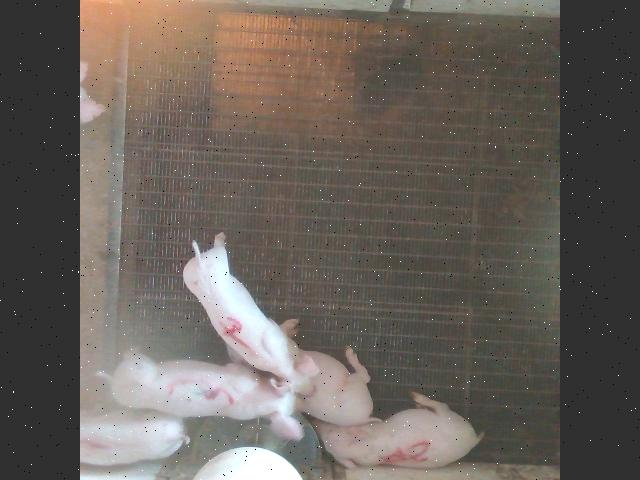pig-1: (81, 410, 190, 464)
pig-3: (99, 350, 302, 439)
pig-4: (184, 241, 319, 396)
pig-5: (313, 391, 482, 468)
